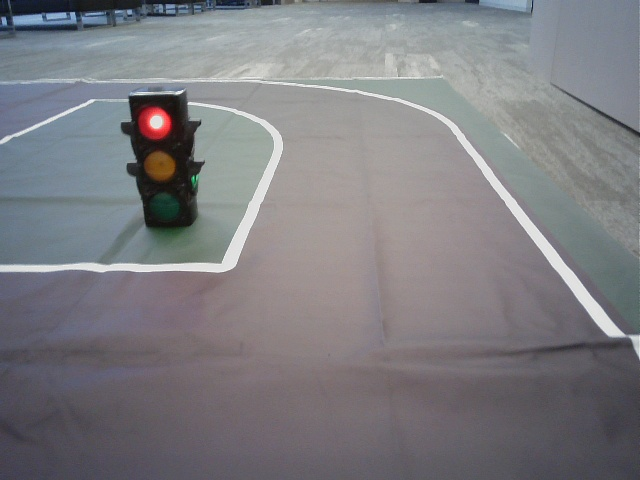red: (136, 98, 184, 221)
